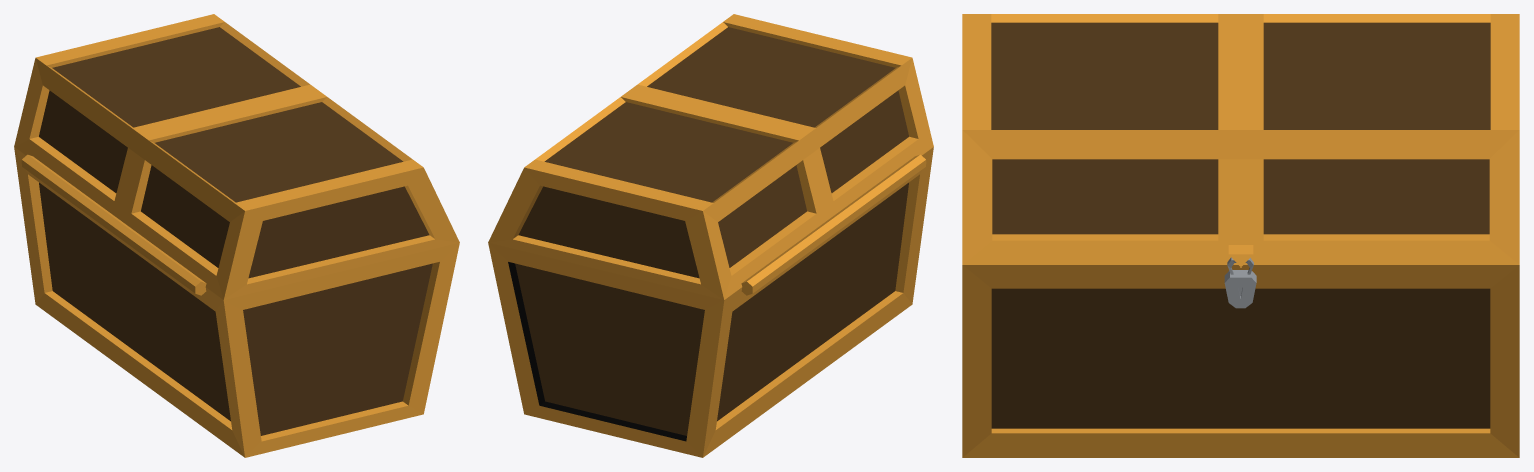
File: chest3D.glb
The picture shows the model from 3 angles, left to right: view 1: azimuth 30°, elevation 25°; view 2: azimuth 150°, elevation 25°; view 3: azimuth 270°, elevation 25°; orthographic projection. The views are drawn at different scales.
Visible parts, largest first — view 1: chest; view 2: chest; view 3: chest.
Part boxes in pixels (x1=…): chest: x1=14, y1=14, x2=459, y2=457; chest: x1=488, y1=14, x2=933, y2=457; chest: x1=962, y1=14, x2=1519, y2=457.
Size of the model in its own units: 0.7163 by 0.6558 by 1.01.
Materials: 1 (1 with a texture image).
